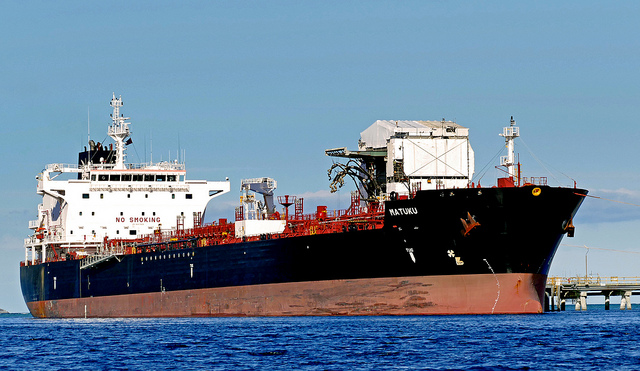tanker: (19, 94, 585, 311)
